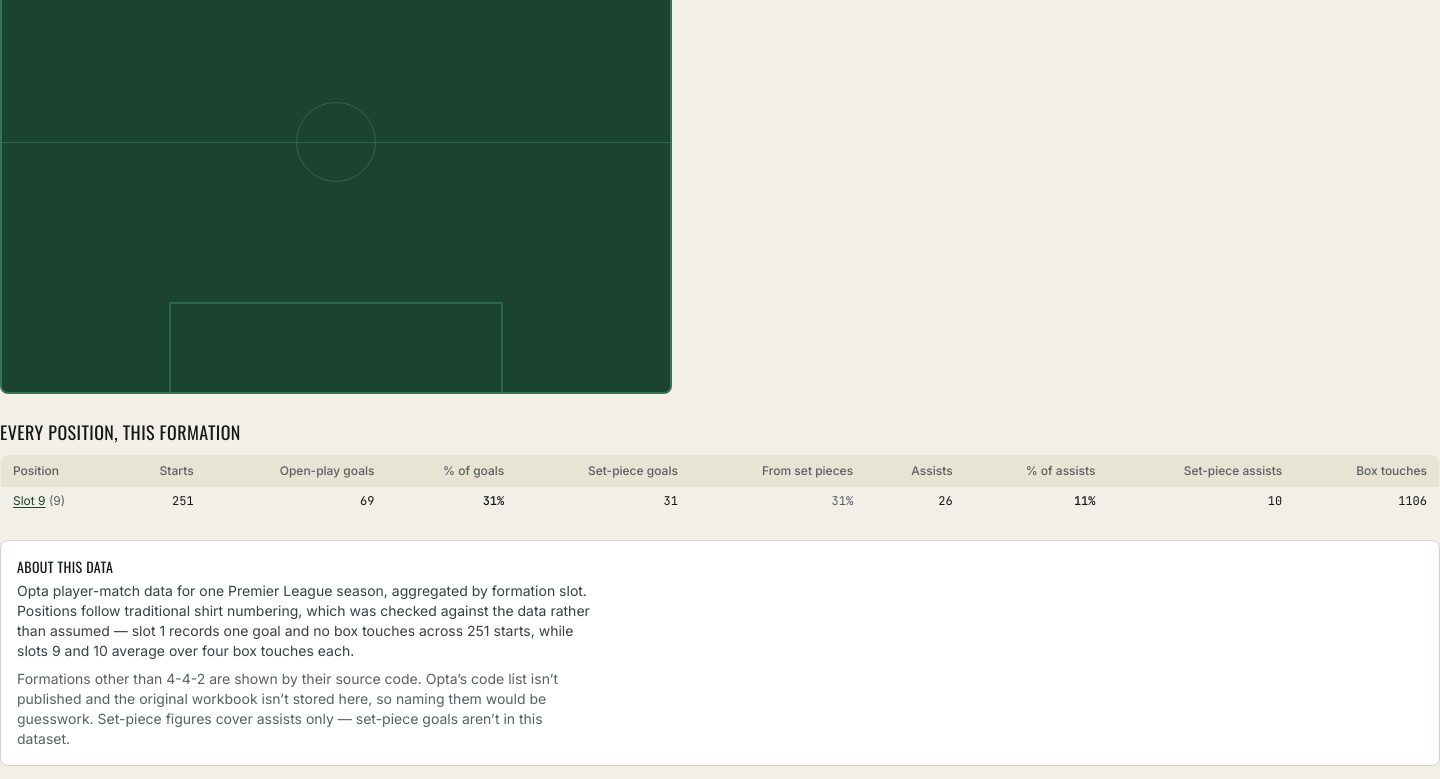
FormationsPage › compares one position across formations, with sample sizes shown
The width and height of the screenshot is (1440, 779).
(page scrolled)
Click the button "Slot 9": (29, 501) x1=13 y1=493 x2=46 y2=509
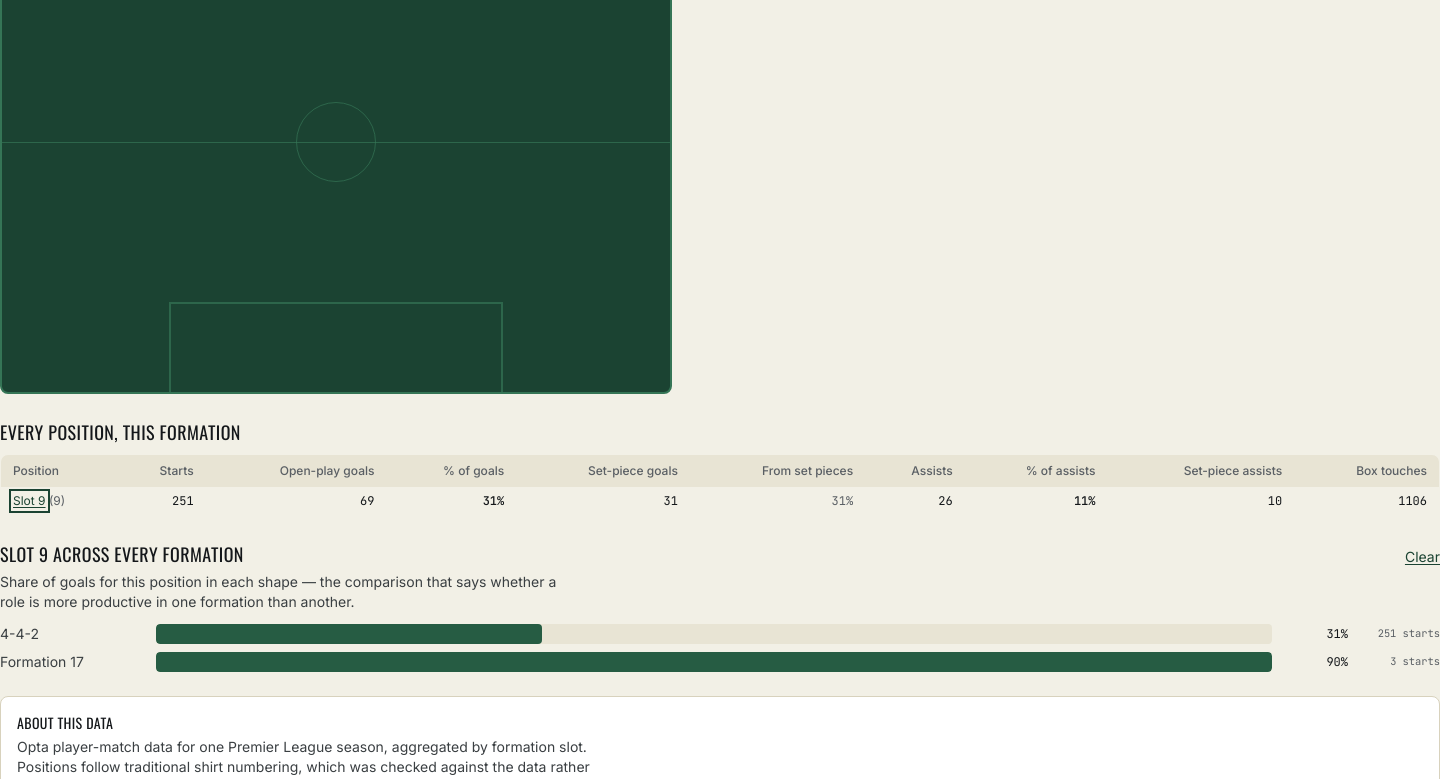
Expected: the heading "Slot 9 across every formation" is shown, x1=0 y1=540 x2=244 y2=568
Expected: the text "3 starts" is shown, x1=1390 y1=654 x2=1439 y2=668
